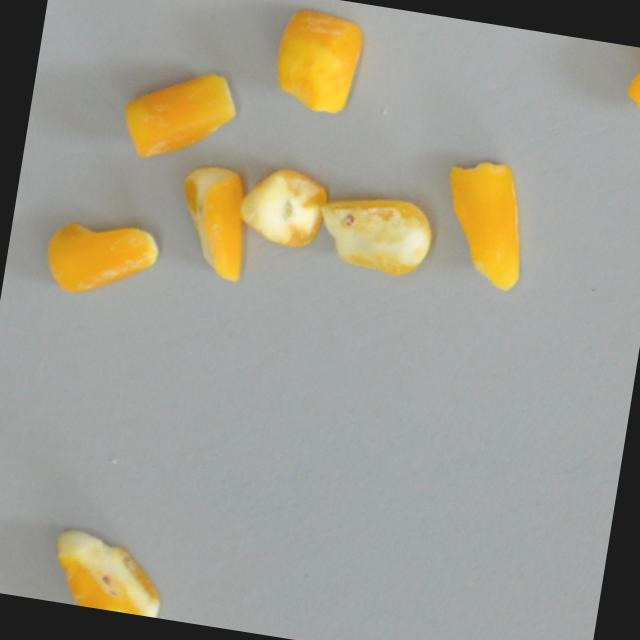dañado: (429, 148, 541, 295), (114, 53, 243, 175), (38, 206, 166, 311), (266, 1, 374, 122), (310, 183, 437, 284), (42, 521, 172, 619), (232, 159, 333, 253)
pelicula: (619, 45, 640, 123)
punto_negro: (165, 157, 259, 292)
